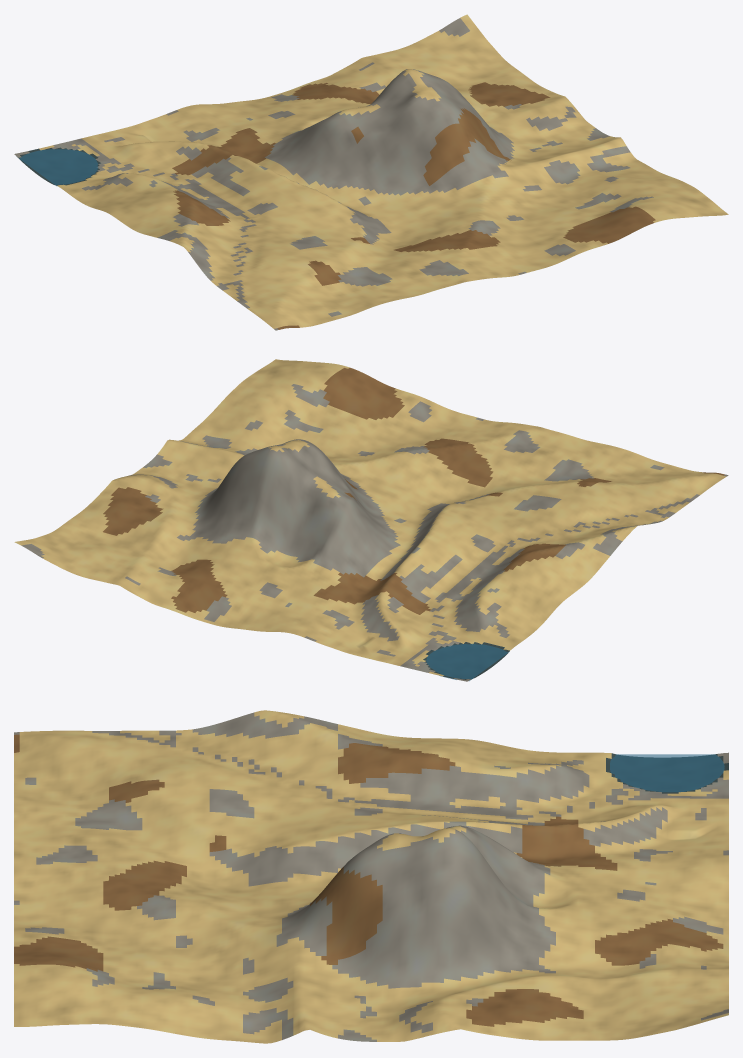
The model's file is chunk_7_6.glb.
The picture shows the model from 3 angles, top to bottom: view 1: azimuth 30°, elevation 25°; view 2: azimuth 150°, elevation 25°; view 3: azimuth 270°, elevation 25°; orthographic projection. The views are drawn at different scales.
Visible parts, largest first — view 1: Surface_Sand, Surface_Gravel, Surface_Dirt, Surface_Water, Water; view 2: Surface_Sand, Surface_Gravel, Surface_Dirt, Surface_Water, Water; view 3: Surface_Sand, Surface_Gravel, Surface_Dirt, Water, Surface_Water.
Boxes of the visible parts, x1,y1,x2,y2 form: Surface_Sand: (39,14,728,328); Surface_Gravel: (14,18,653,330); Surface_Dirt: (172,82,655,329); Surface_Water: (18,147,100,185); Water: (16,149,98,185); Surface_Sand: (14,359,726,676); Surface_Gravel: (21,384,728,681); Surface_Dirt: (103,367,724,614); Surface_Water: (423,642,509,679); Water: (426,643,508,680); Surface_Sand: (14,710,728,1043); Surface_Gravel: (14,712,728,1041); Surface_Dirt: (14,734,723,1026); Water: (610,754,724,792); Surface_Water: (606,753,728,793).
Bounding box in the file's own units: 256 × 49.84 × 256.
